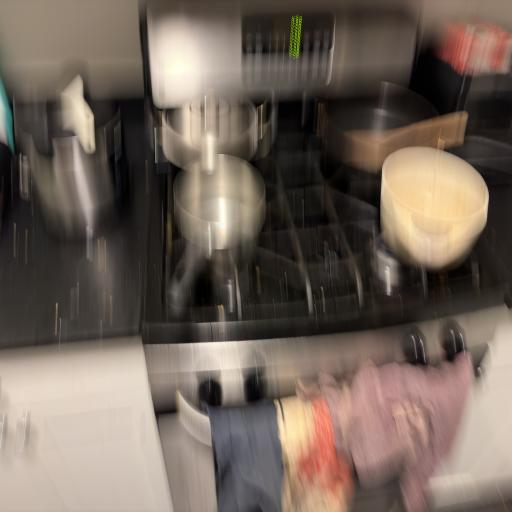Pan: (160, 150, 300, 323), (366, 138, 498, 273), (312, 74, 466, 166)
